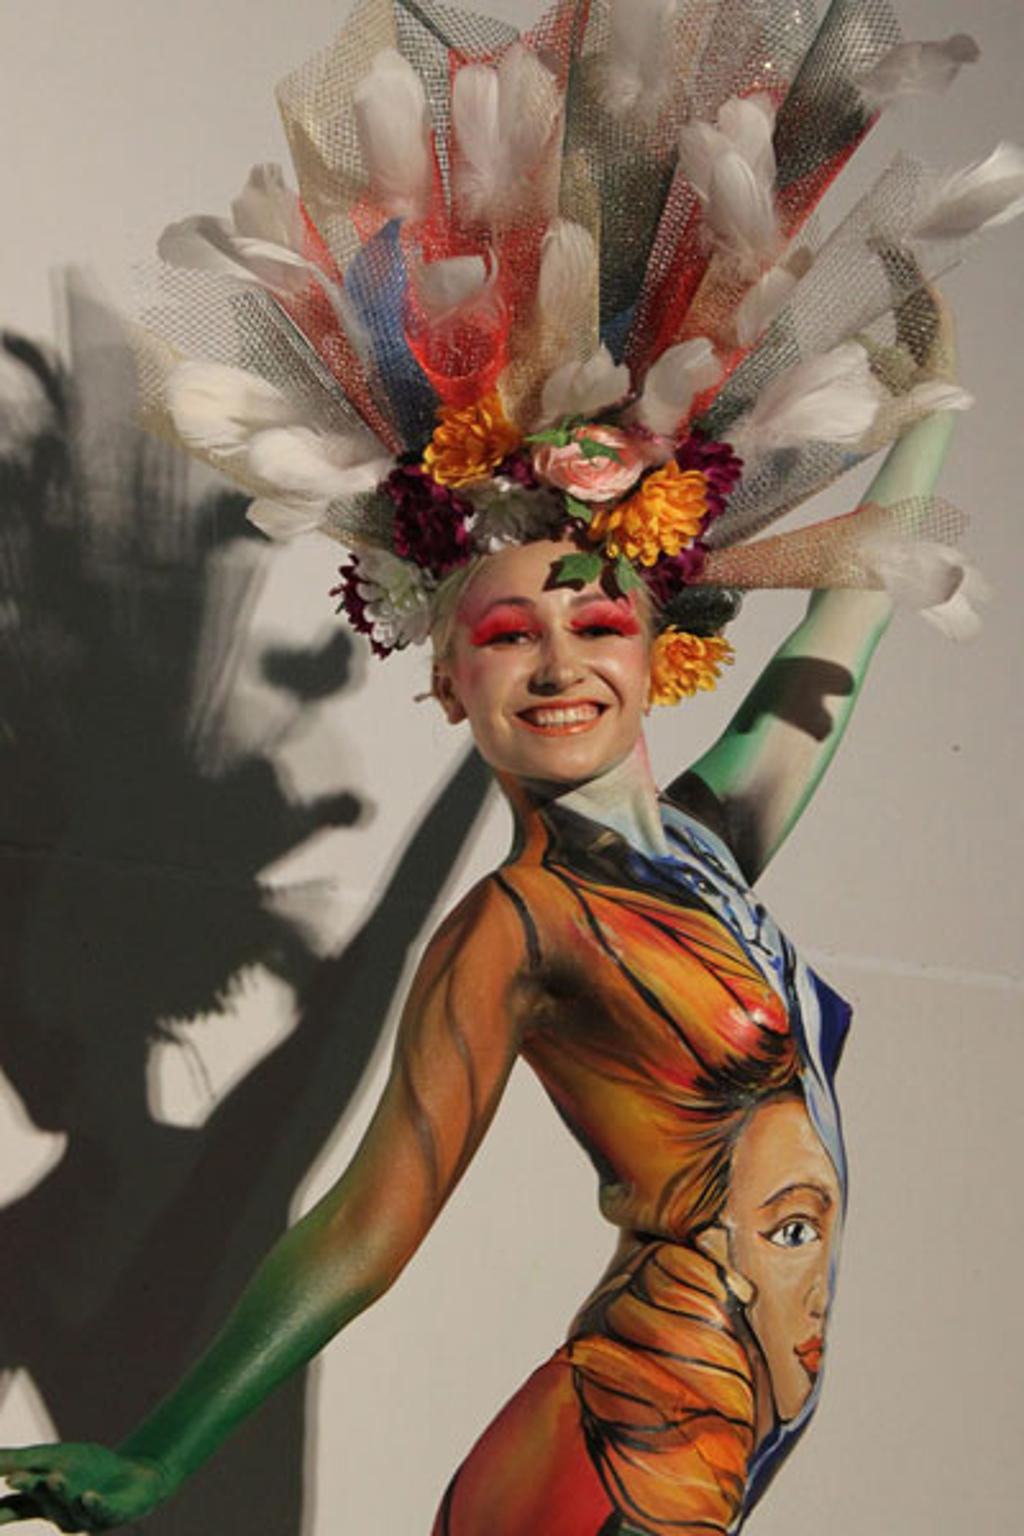face: (445, 524, 652, 779)
